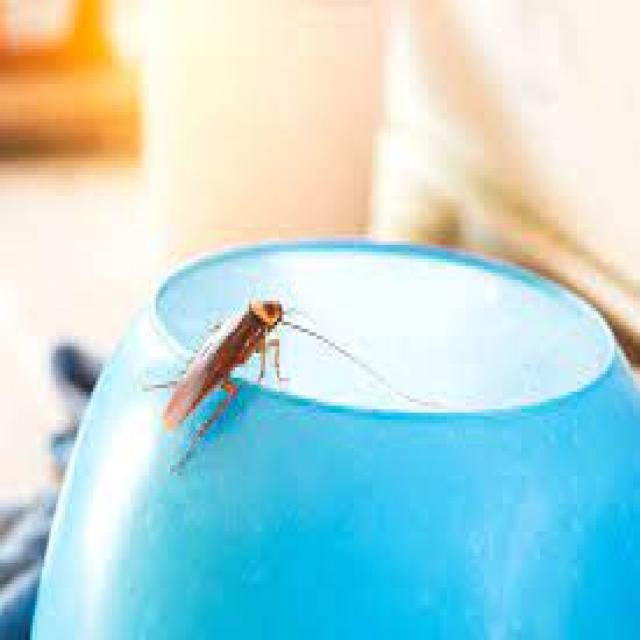Cockroach: (140, 273, 445, 483)
